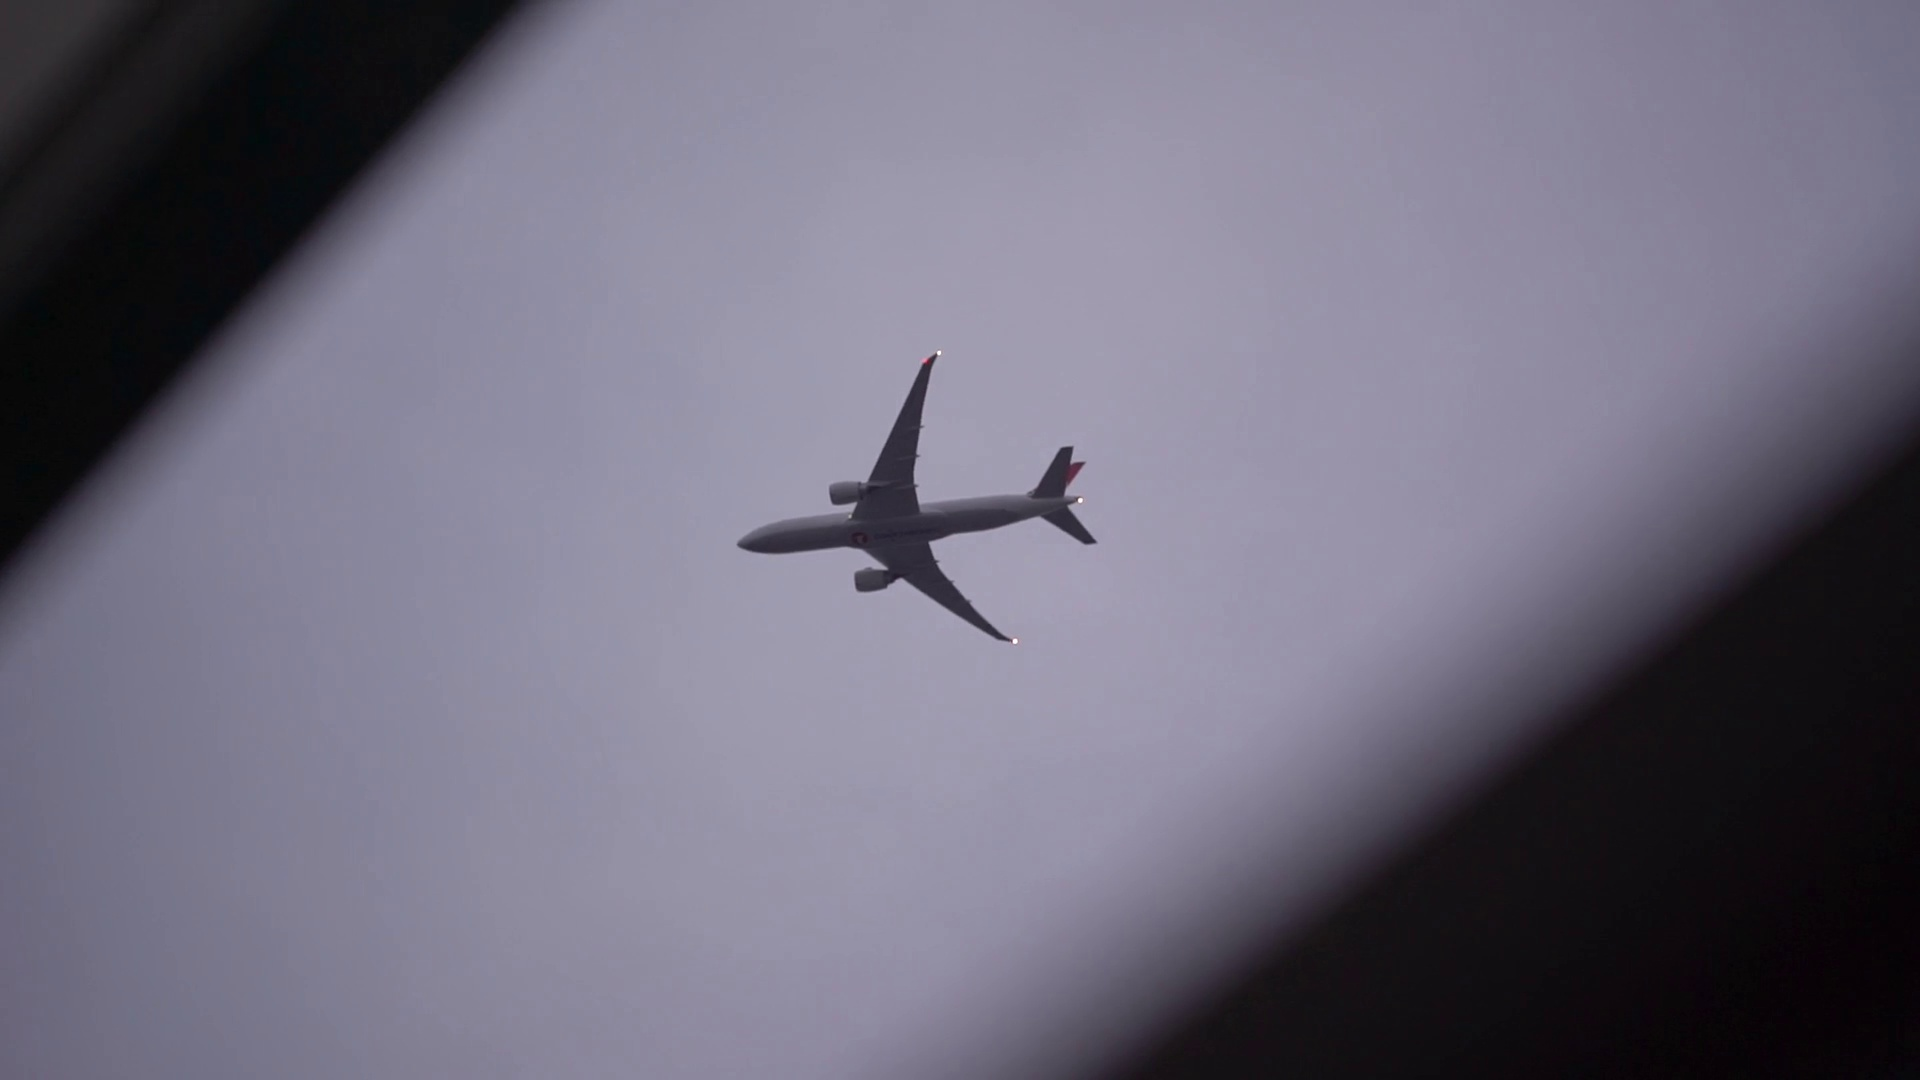plane: (735, 349, 1096, 641)
